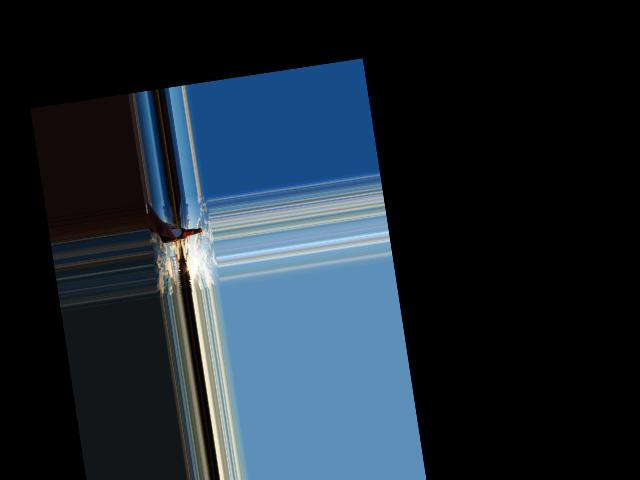beer: (162, 224, 202, 243)
